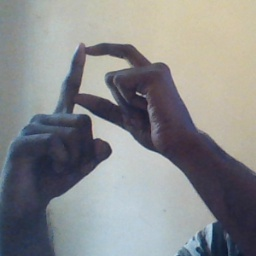D: (39, 34, 164, 163)
